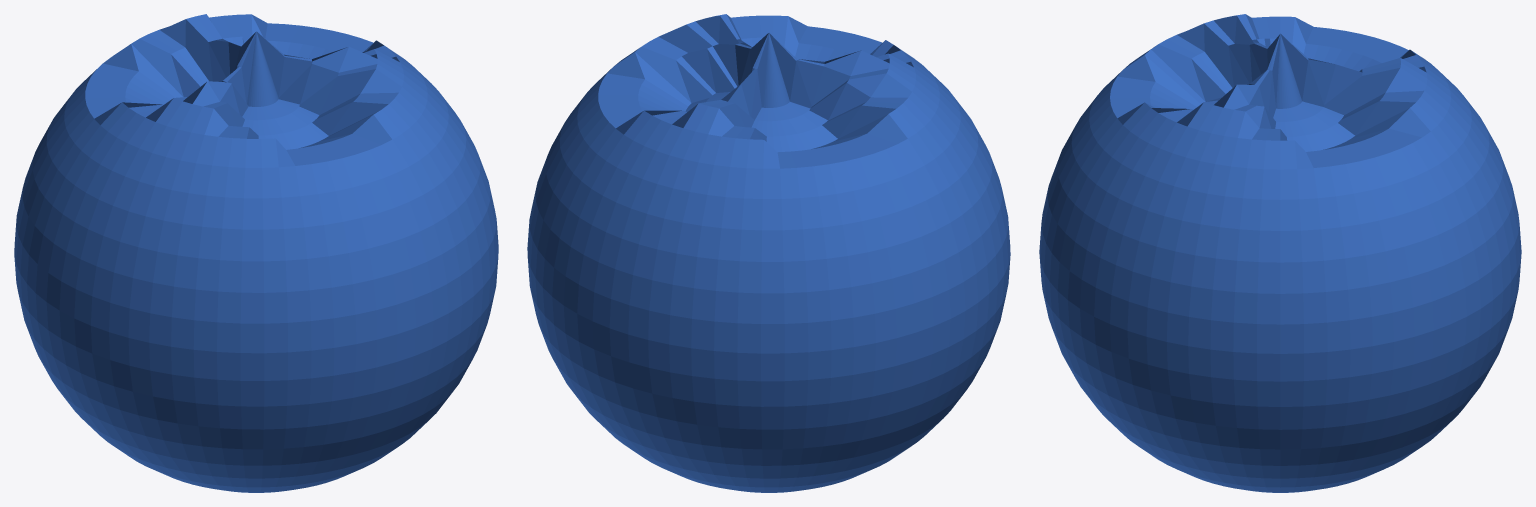
Rendered from BowlingBall01.glb.
3 views of the same model, side by side, from view 1: azimuth 30°, elevation 25°; view 2: azimuth 150°, elevation 25°; view 3: azimuth 270°, elevation 25° (orthographic).
Visible parts, largest first — view 1: BowlingBall01; view 2: BowlingBall01; view 3: BowlingBall01.
Part boxes in pixels (bbox=[...]): BowlingBall01: bbox=[14, 14, 498, 492]; BowlingBall01: bbox=[527, 14, 1010, 492]; BowlingBall01: bbox=[1039, 14, 1521, 492].
Size of the model in its own units: 0.216 by 0.216 by 0.216.
